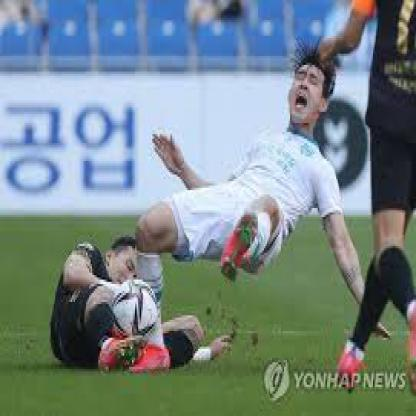Fall_Down: (122, 48, 396, 375)
